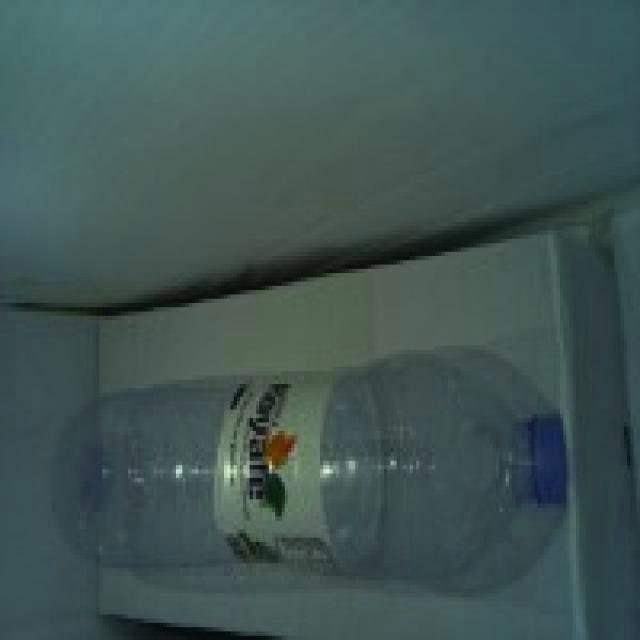bottle: (53, 357, 567, 581)
